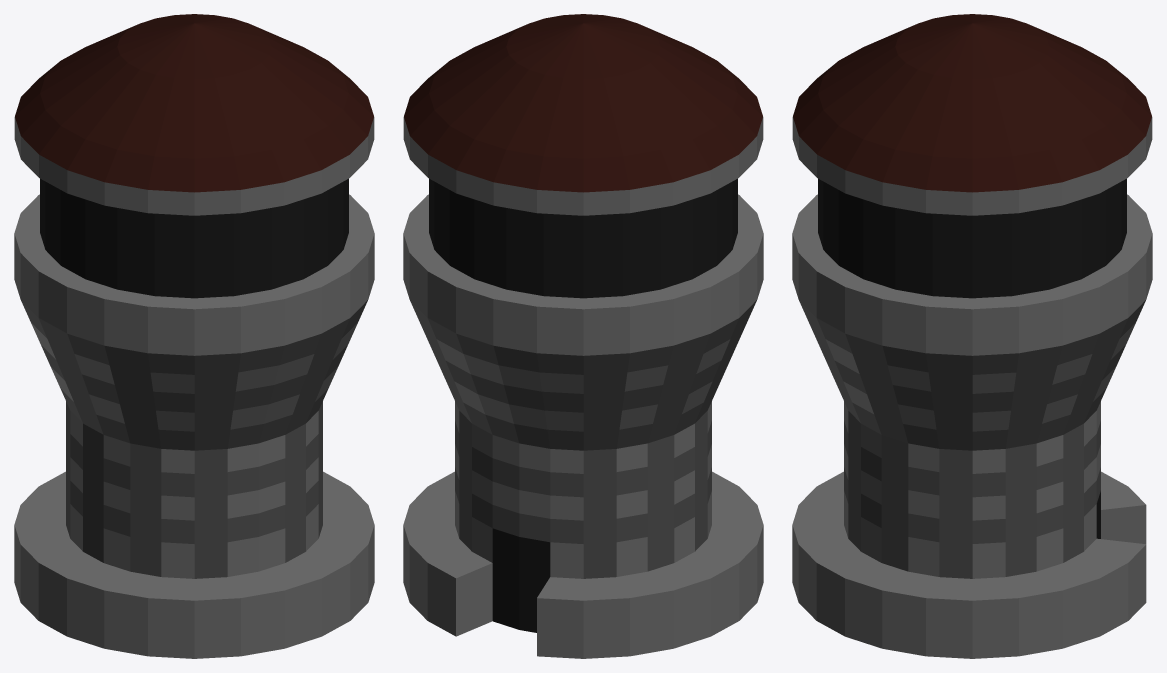
The model's file is Knights_Arrow.fbx.
The picture shows the model from 3 angles, left to right: view 1: azimuth 30°, elevation 25°; view 2: azimuth 150°, elevation 25°; view 3: azimuth 270°, elevation 25°; orthographic projection.
Parts seen in each view (by area): view 1: Knights_Arrow; view 2: Knights_Arrow; view 3: Knights_Arrow.
Boxes of the visible parts, left/top/right/bottom form: Knights_Arrow: left=14, top=14, right=374, bottom=658; Knights_Arrow: left=403, top=14, right=763, bottom=658; Knights_Arrow: left=792, top=14, right=1152, bottom=658.
Bounding box in the file's own units: 140 × 240 × 140.
